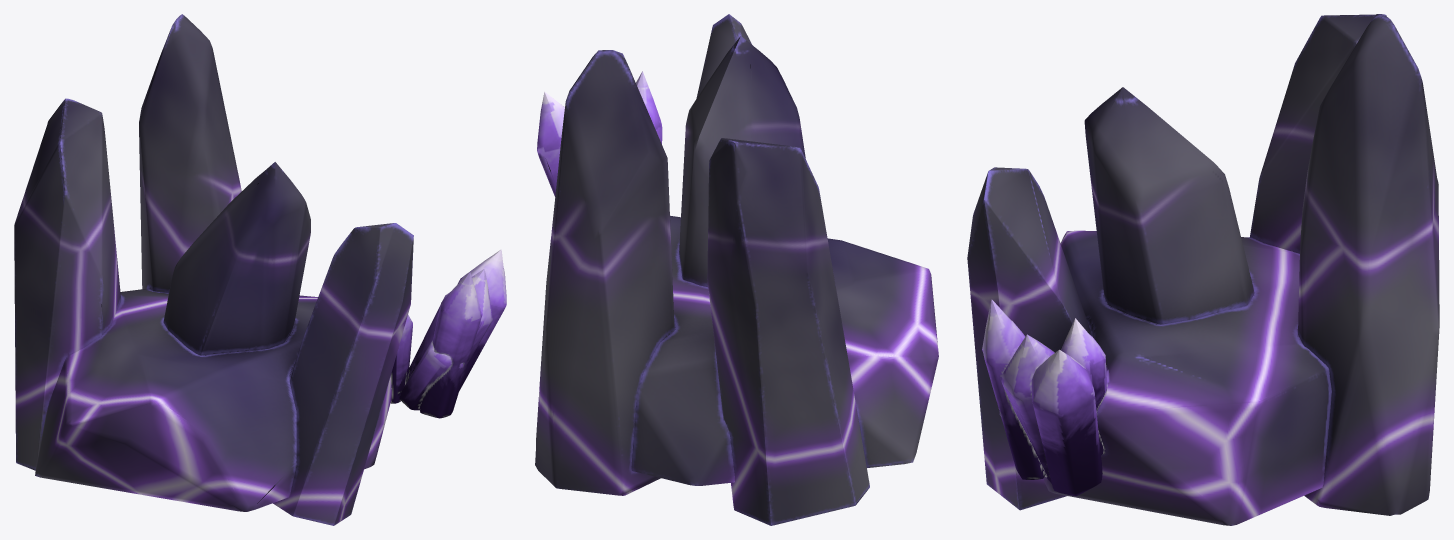
File: RocherObsidienne_B.fbx
3 views of the same model, side by side, from view 1: azimuth 30°, elevation 25°; view 2: azimuth 150°, elevation 25°; view 3: azimuth 270°, elevation 25° (orthographic). The views are drawn at different scales.
Parts seen in each view (by area): view 1: RocherObsidienne_B; view 2: RocherObsidienne_B; view 3: RocherObsidienne_B.
Boxes of the visible parts, x1,y1,x2,y2 form: RocherObsidienne_B: [14, 14, 506, 525]; RocherObsidienne_B: [535, 14, 938, 525]; RocherObsidienne_B: [967, 14, 1439, 525].
Bounding box in the file's own units: 882 × 827 × 736.
1 material, 1 textured.
